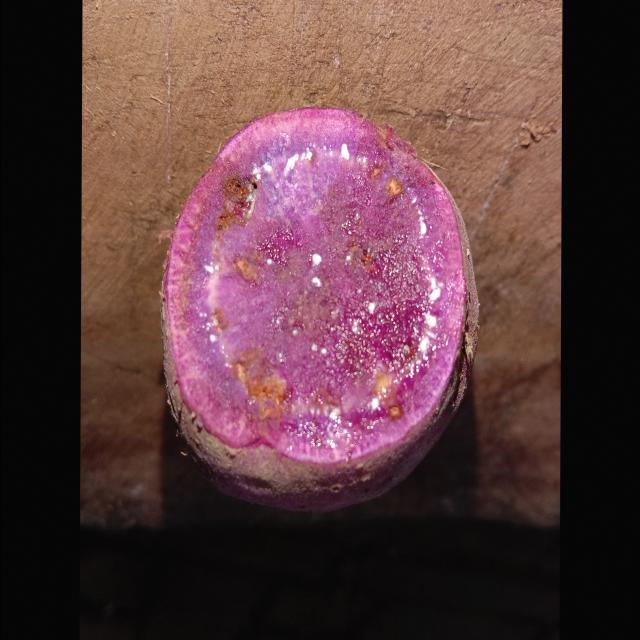Sick Sweet Potato_Tuber Rot: (165, 108, 465, 465)
